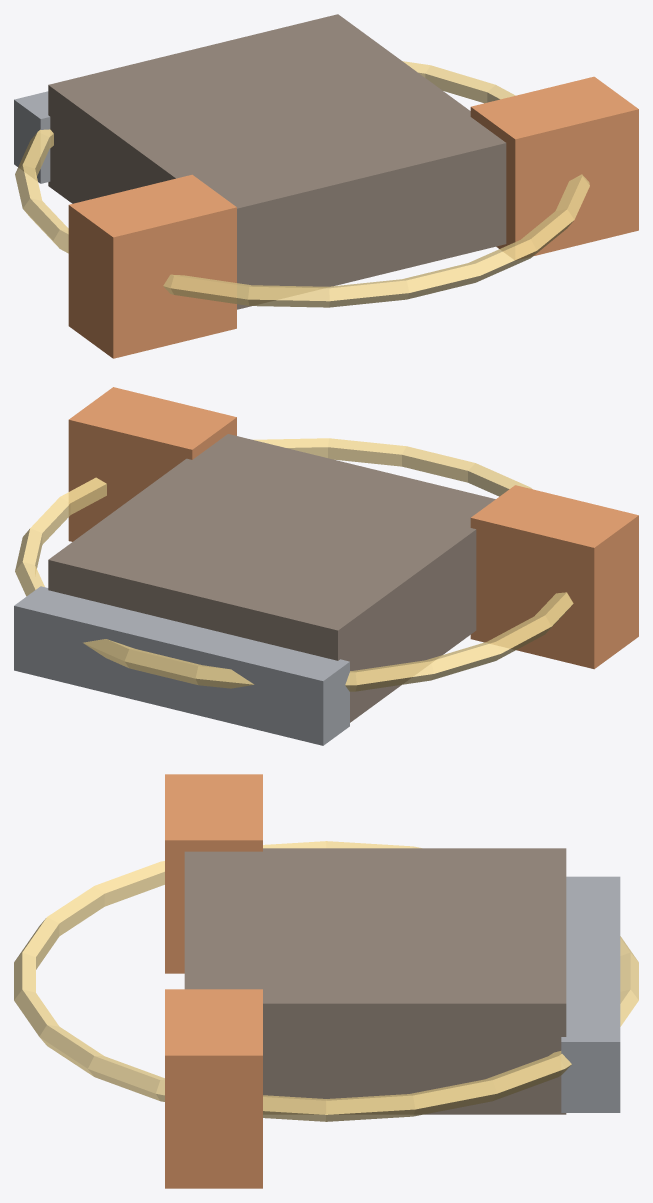
The model's file is 04_magic_armor_upgrade.glb.
The picture shows the model from 3 angles, top to bottom: view 1: azimuth 30°, elevation 25°; view 2: azimuth 150°, elevation 25°; view 3: azimuth 270°, elevation 25°; orthographic projection. The views are drawn at different scales.
Parts seen in each view (by area): view 1: chest_plate, pauldron_l, pauldron_r, warding_aura, waist_guard; view 2: chest_plate, waist_guard, pauldron_l, warding_aura, pauldron_r; view 3: chest_plate, pauldron_r, warding_aura, waist_guard, pauldron_l.
Boxes of the visible parts, box(x1,y1,x2,y2) form: chest_plate: box(48, 14, 506, 309); pauldron_l: box(68, 174, 236, 358); pauldron_r: box(470, 76, 638, 259); warding_aura: box(15, 61, 589, 307); waist_guard: box(14, 91, 50, 183); chest_plate: box(48, 434, 495, 722); waist_guard: box(14, 586, 349, 745); pauldron_l: box(470, 485, 638, 669); warding_aura: box(15, 438, 573, 691); pauldron_r: box(68, 387, 236, 541); chest_plate: box(184, 848, 566, 1114); pauldron_r: box(165, 989, 262, 1188); warding_aura: box(14, 841, 638, 1121); waist_guard: box(561, 876, 620, 1112); pauldron_l: box(165, 774, 262, 973).
Size of the model in its own units: 1.36 by 0.38 by 1.28.
